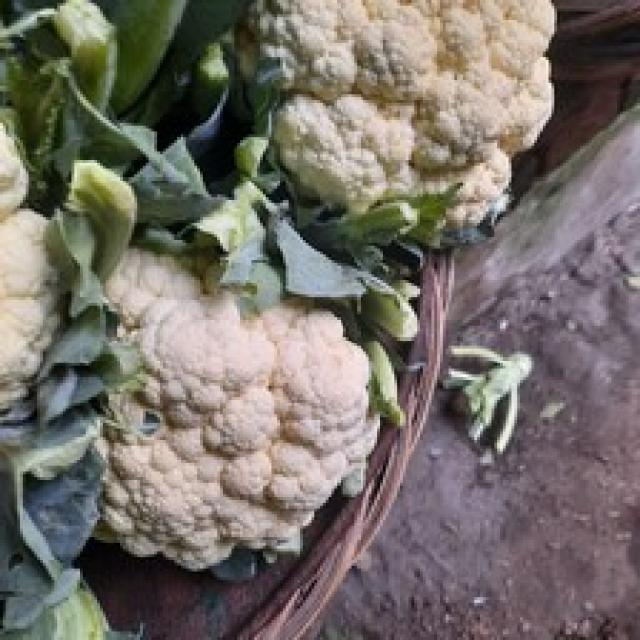Cauliflower: (69, 214, 389, 570), (246, 0, 555, 245)
